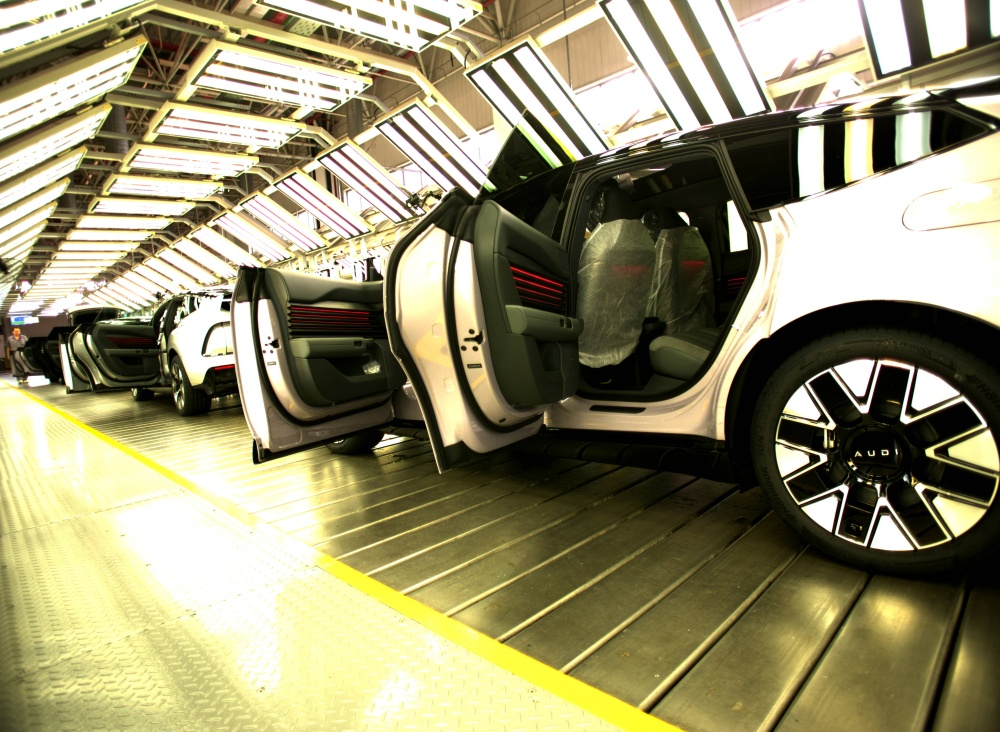armrest_color: (503, 303, 585, 340), (288, 335, 377, 358)
panel_color: (507, 258, 570, 313), (289, 301, 373, 334)
